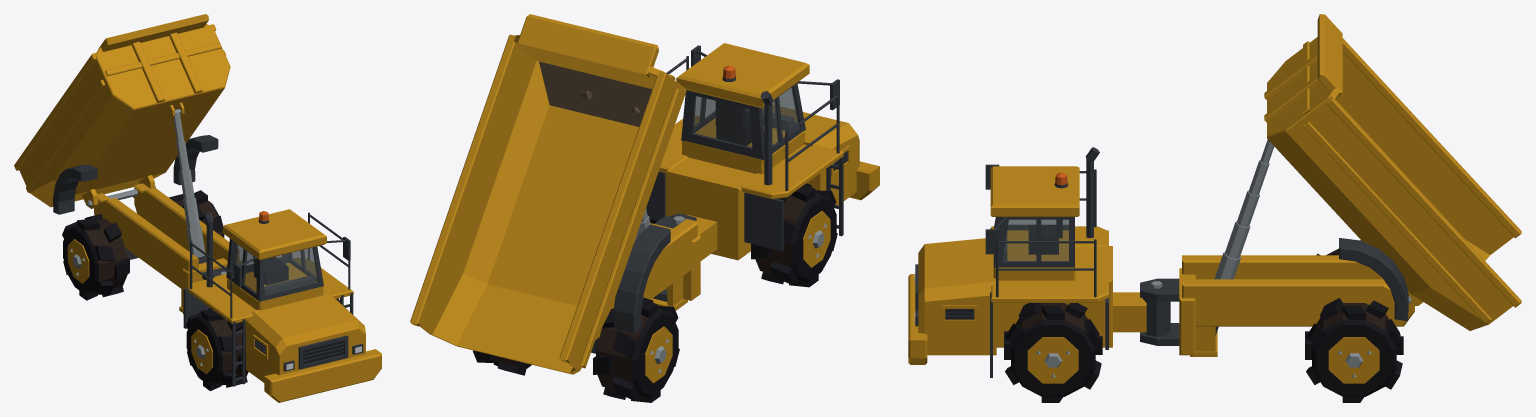
The model's file is articulated-dump-truck.glb.
3 renders of one model, left to right at view 1: azimuth 30°, elevation 25°; view 2: azimuth 150°, elevation 25°; view 3: azimuth 270°, elevation 25°, orthographic. The views are drawn at different scales.
Visible parts, largest first — view 1: trailer-frame, glazing; view 2: trailer-frame, glazing; view 3: trailer-frame, glazing.
Part boxes in pixels (x1=…): trailer-frame: x1=14, y1=14, x2=381, y2=402; glazing: x1=230, y1=241, x2=317, y2=295; trailer-frame: x1=410, y1=14, x2=879, y2=402; glazing: x1=693, y1=87, x2=799, y2=147; trailer-frame: x1=908, y1=14, x2=1521, y2=402; glazing: x1=996, y1=217, x2=1068, y2=261.
Size of the model in its own units: 3.08 by 5.68 by 9.78.
